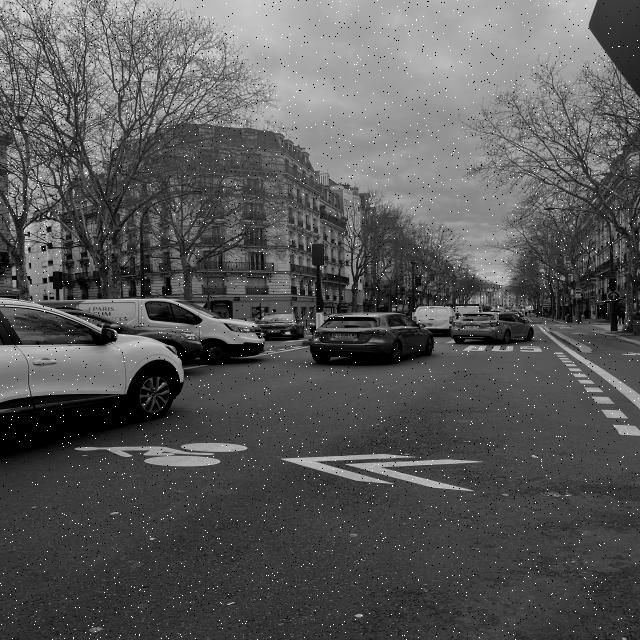EU: (332, 332, 358, 338)
France: (332, 333, 334, 337)
